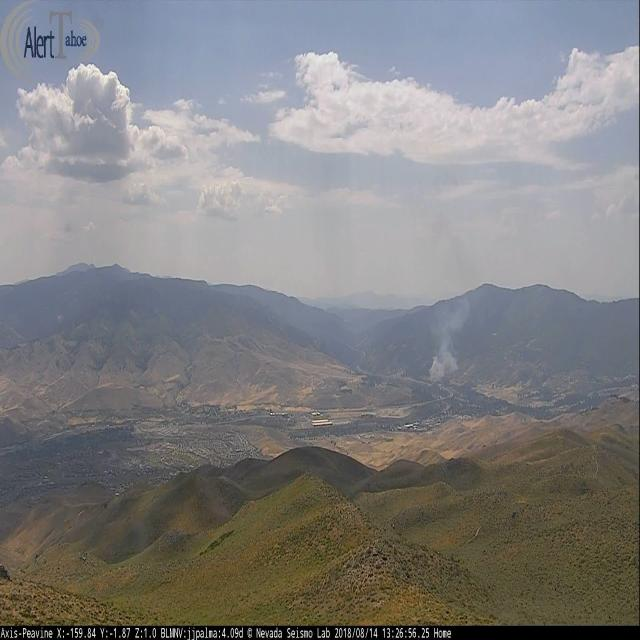smoke: (426, 299, 468, 385)
